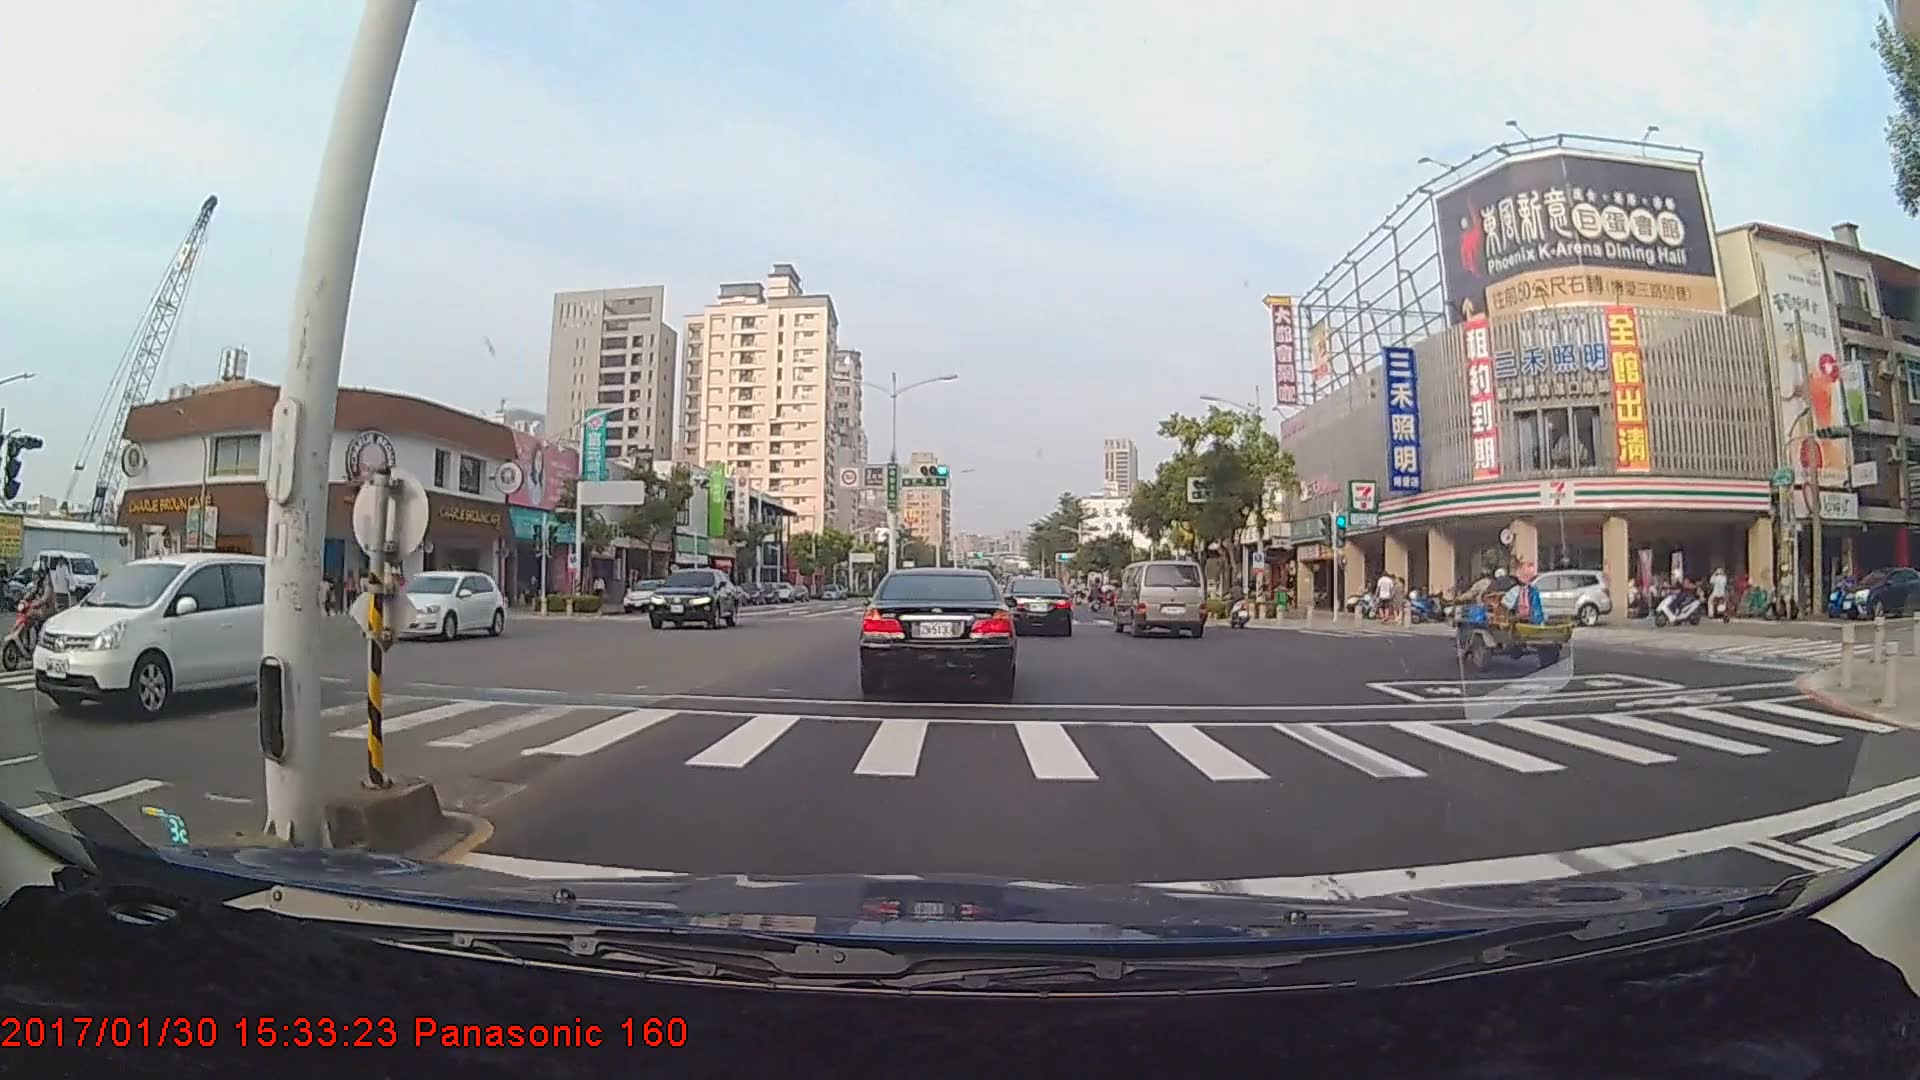pedestrian: (1373, 571, 1394, 625)
rider: (11, 553, 77, 669), (1649, 567, 1714, 635), (1216, 580, 1255, 634)
vehicle: (40, 551, 307, 712), (860, 563, 1016, 687), (369, 570, 502, 645), (1458, 573, 1607, 631), (1115, 559, 1205, 638), (647, 565, 737, 631), (1001, 576, 1073, 636), (621, 577, 671, 612)
